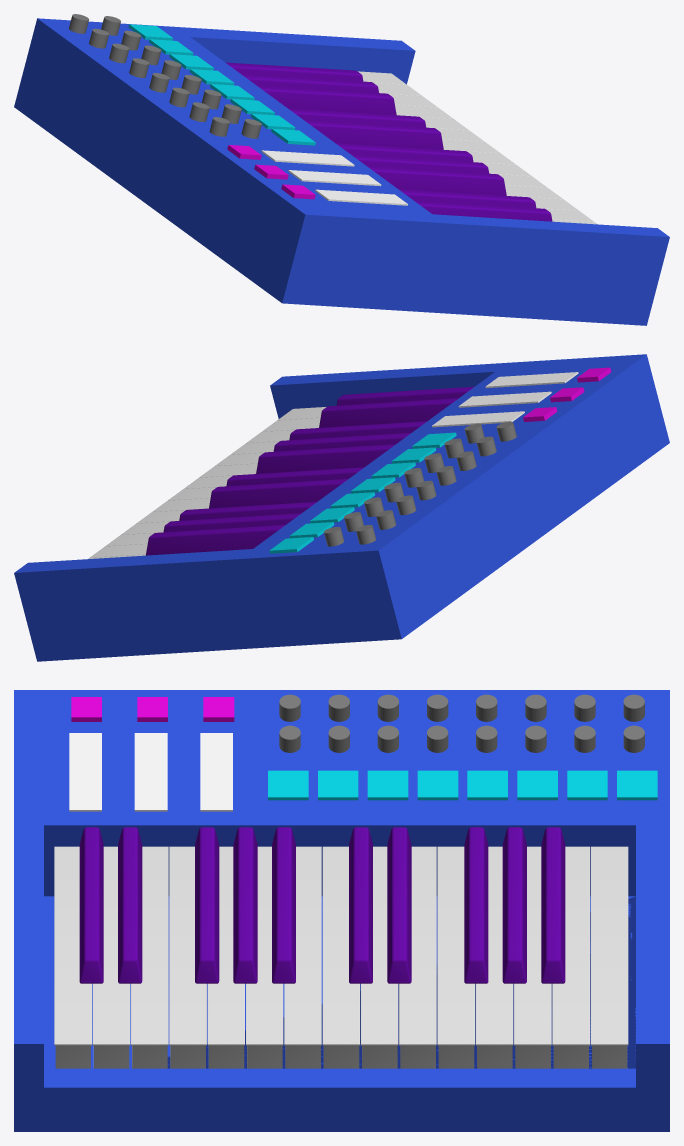
The model's file is MIDI.fbx.
3 views of the same model, one above another, from view 1: azimuth 30°, elevation 25°; view 2: azimuth 150°, elevation 25°; view 3: azimuth 270°, elevation 25° (orthographic). The views are drawn at different scales.
Parts seen in each view (by area): view 1: Plane, Cube, Cube.001, Cylinder, Plane.001, Plane.002, Plane.003; view 2: Plane, Cube, Cube.001, Cylinder, Plane.001, Plane.002, Plane.003; view 3: Plane, Cube.001, Cube, Plane.001, Cylinder, Plane.002, Plane.003.
Part boxes in pixels (<box>): Plane: <box>14,18,669,325</box>; Cube: <box>226,62,552,221</box>; Cube.001: <box>358,71,597,224</box>; Cylinder: <box>69,14,261,138</box>; Plane.001: <box>128,24,315,145</box>; Plane.002: <box>261,150,407,205</box>; Plane.003: <box>227,145,315,199</box>; Plane: <box>14,354,669,661</box>; Cube: <box>146,386,474,555</box>; Cube.001: <box>88,407,326,558</box>; Cylinder: <box>324,422,516,546</box>; Plane.001: <box>269,432,456,553</box>; Plane.002: <box>432,372,578,427</box>; Plane.003: <box>523,367,611,421</box>; Plane: <box>14,690,669,1131</box>; Cube.001: <box>54,846,628,1068</box>; Cube: <box>79,827,565,983</box>; Plane.001: <box>268,770,657,800</box>; Cylinder: <box>279,694,644,752</box>; Plane.002: <box>69,733,232,811</box>; Plane.003: <box>71,697,234,721</box>.
Bounding box in the file's own units: 2392 × 1187 × 2865.
